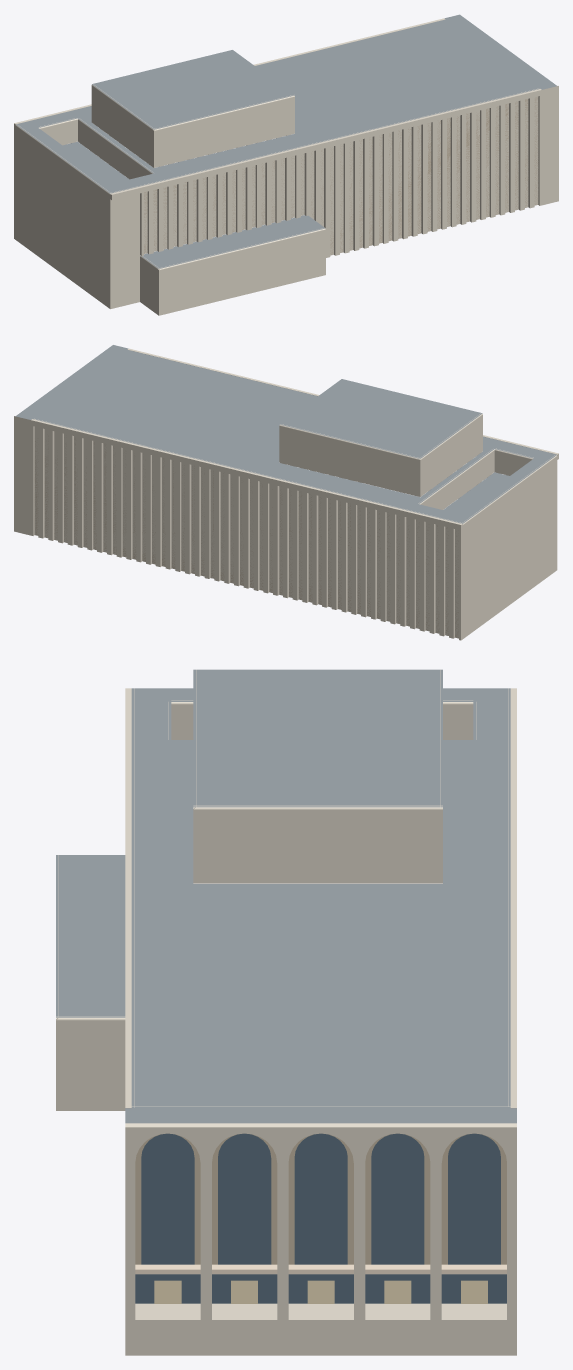
The model's file is nyc-met-opera.glb.
3 views of the same model, one above another, from view 1: azimuth 30°, elevation 25°; view 2: azimuth 150°, elevation 25°; view 3: azimuth 270°, elevation 25° (orthographic). The views are drawn at different scales.
Visible parts, largest first — view 1: Metropolitan Opera House; view 2: Metropolitan Opera House; view 3: Metropolitan Opera House.
Part boxes in pixels (x1,y1,x2,y2): Metropolitan Opera House: (14, 14, 558, 315); Metropolitan Opera House: (14, 345, 558, 640); Metropolitan Opera House: (56, 669, 516, 1355).
Bounding box in the file's own units: 137 × 45 × 61.1.
